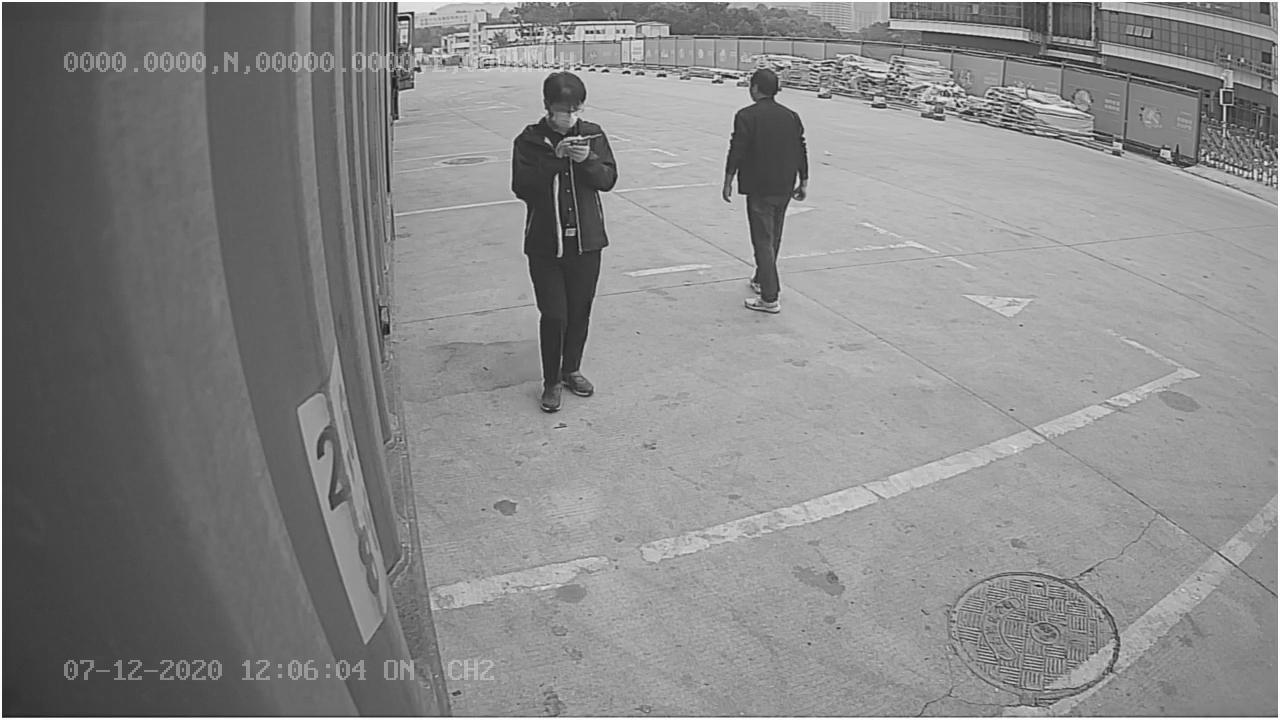person: (512, 73, 624, 412), (723, 63, 812, 311)
